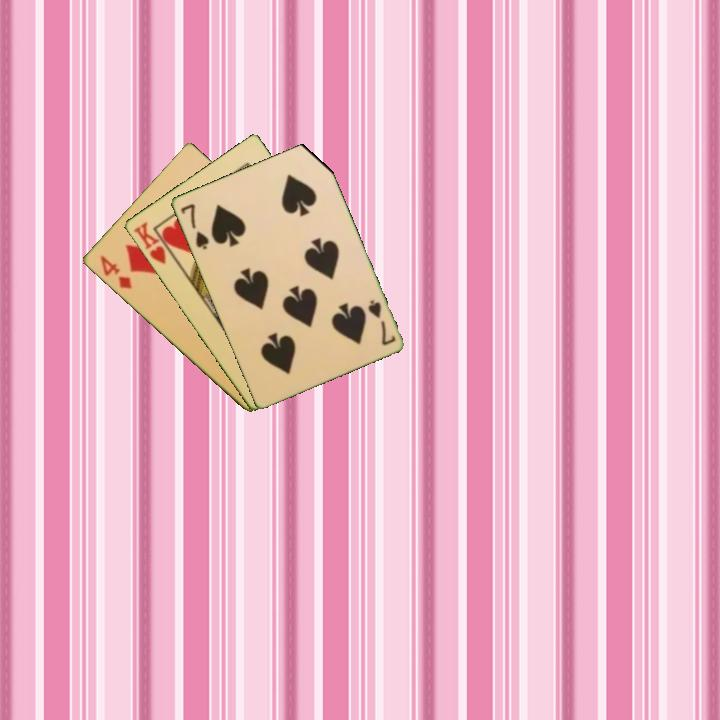4d: (96, 251, 134, 292)
7s: (177, 200, 212, 252), (364, 296, 398, 348)
Kh: (129, 218, 177, 267)
